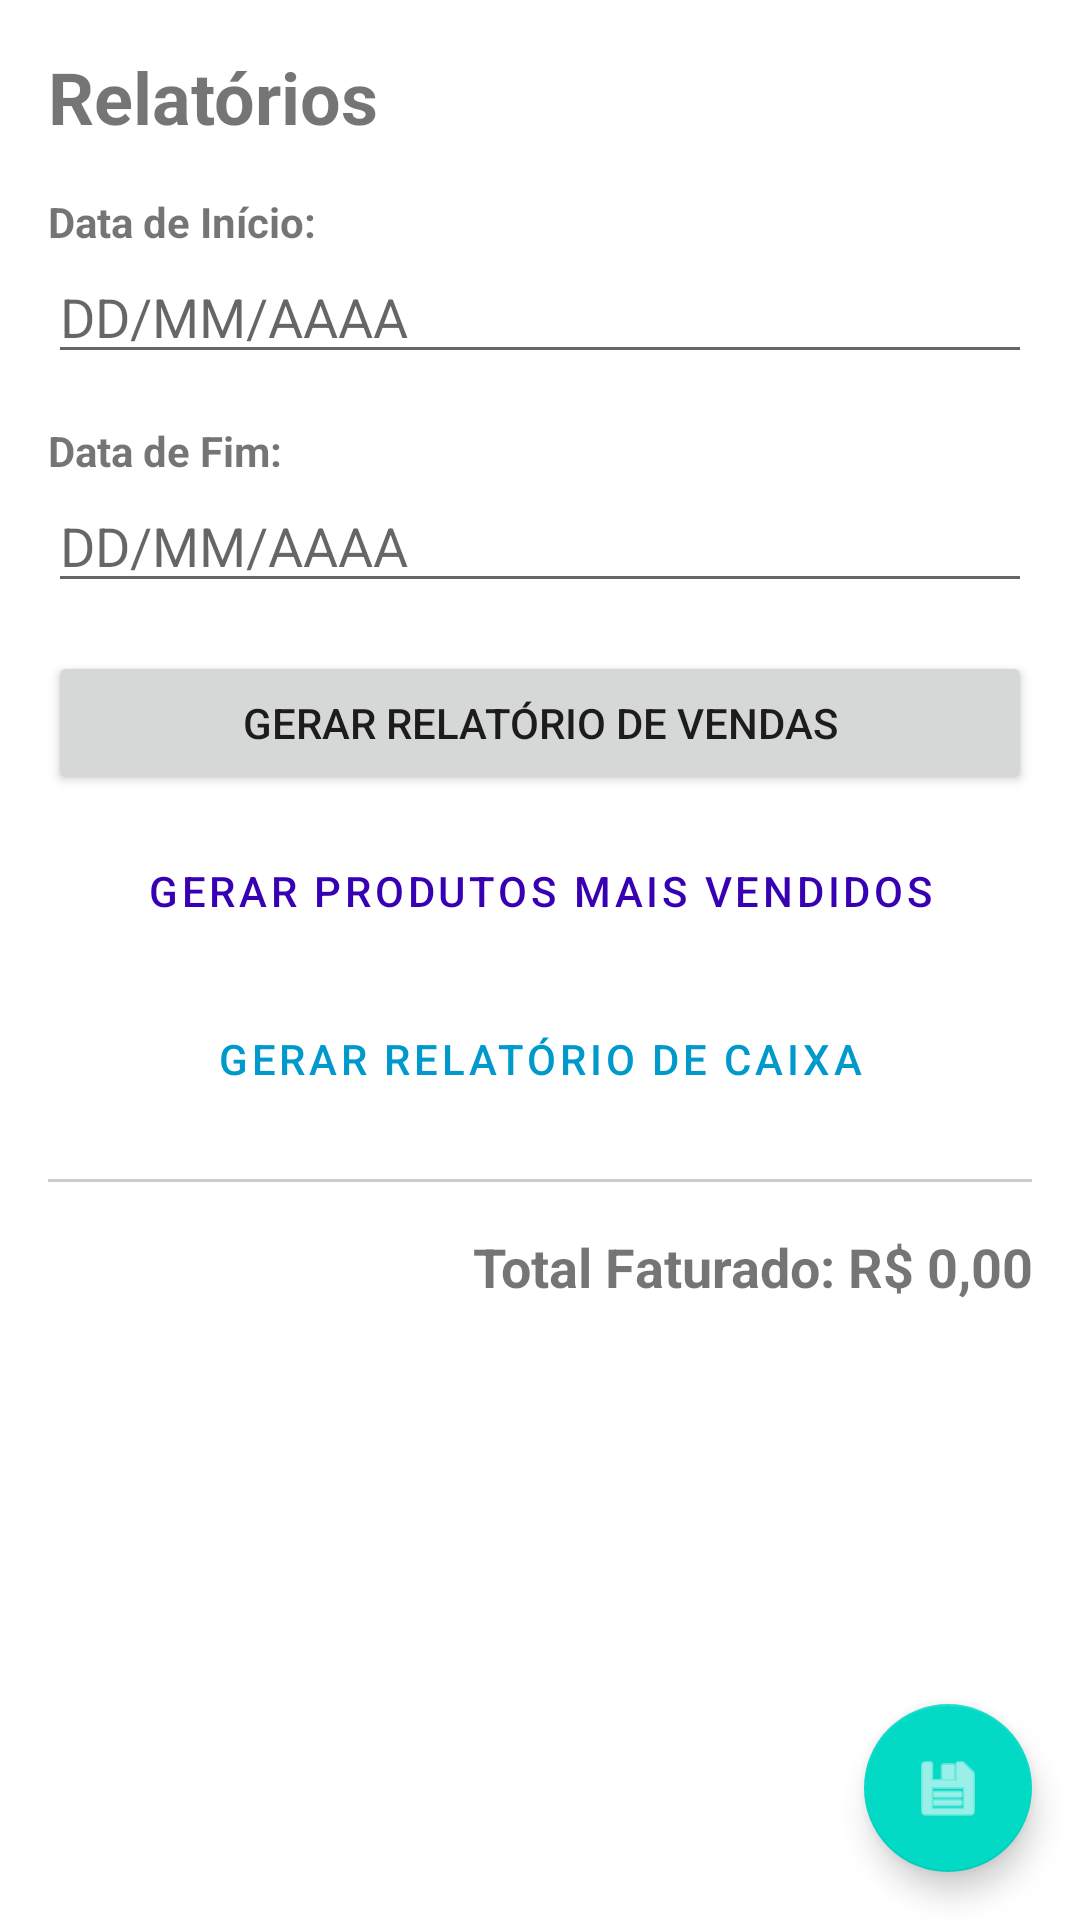

Locate icon controls on the screen. Image size 1080×1920, boxes as (x1, y1, x2, y2).
Exportar para CSV: (864, 1704, 1032, 1872)
